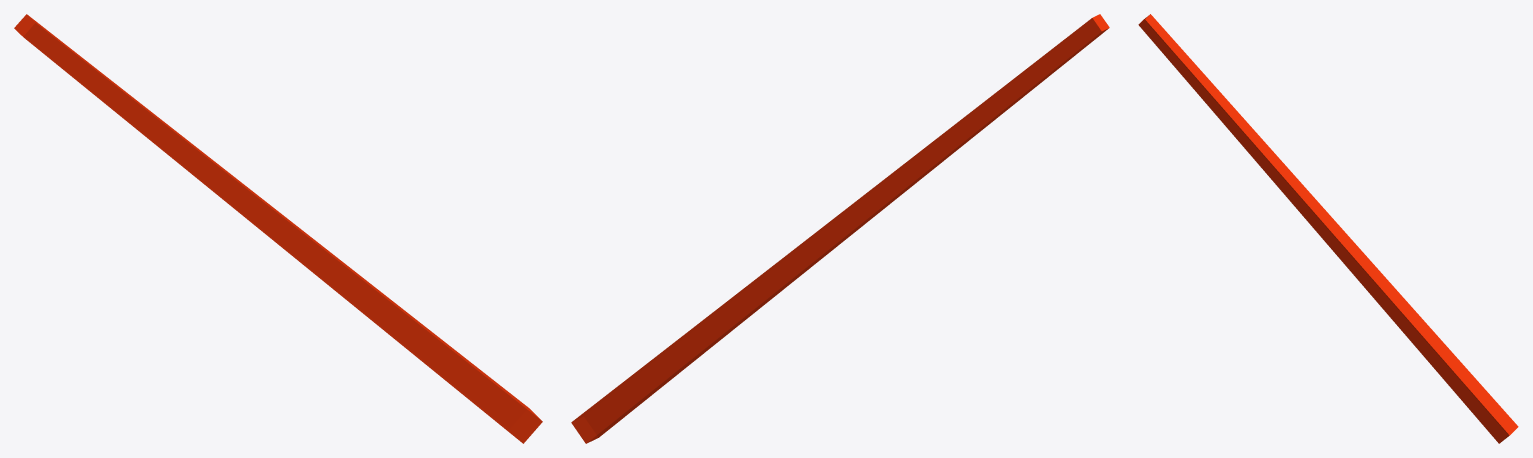
The model's file is Event_420604493_EBrechit_25.fbx.
3 views of the same model, side by side, from view 1: azimuth 30°, elevation 25°; view 2: azimuth 150°, elevation 25°; view 3: azimuth 330°, elevation 25° (orthographic). The views are drawn at different scales.
Visible parts, largest first — view 1: Model; view 2: Model; view 3: Model.
Boxes of the visible parts, box(x1,y1,x2,y2) form: Model: box(14, 14, 542, 443); Model: box(571, 14, 1109, 443); Model: box(1138, 14, 1518, 443).
Bounding box in the file's own units: 1.98 × 1.98 × 0.329.
